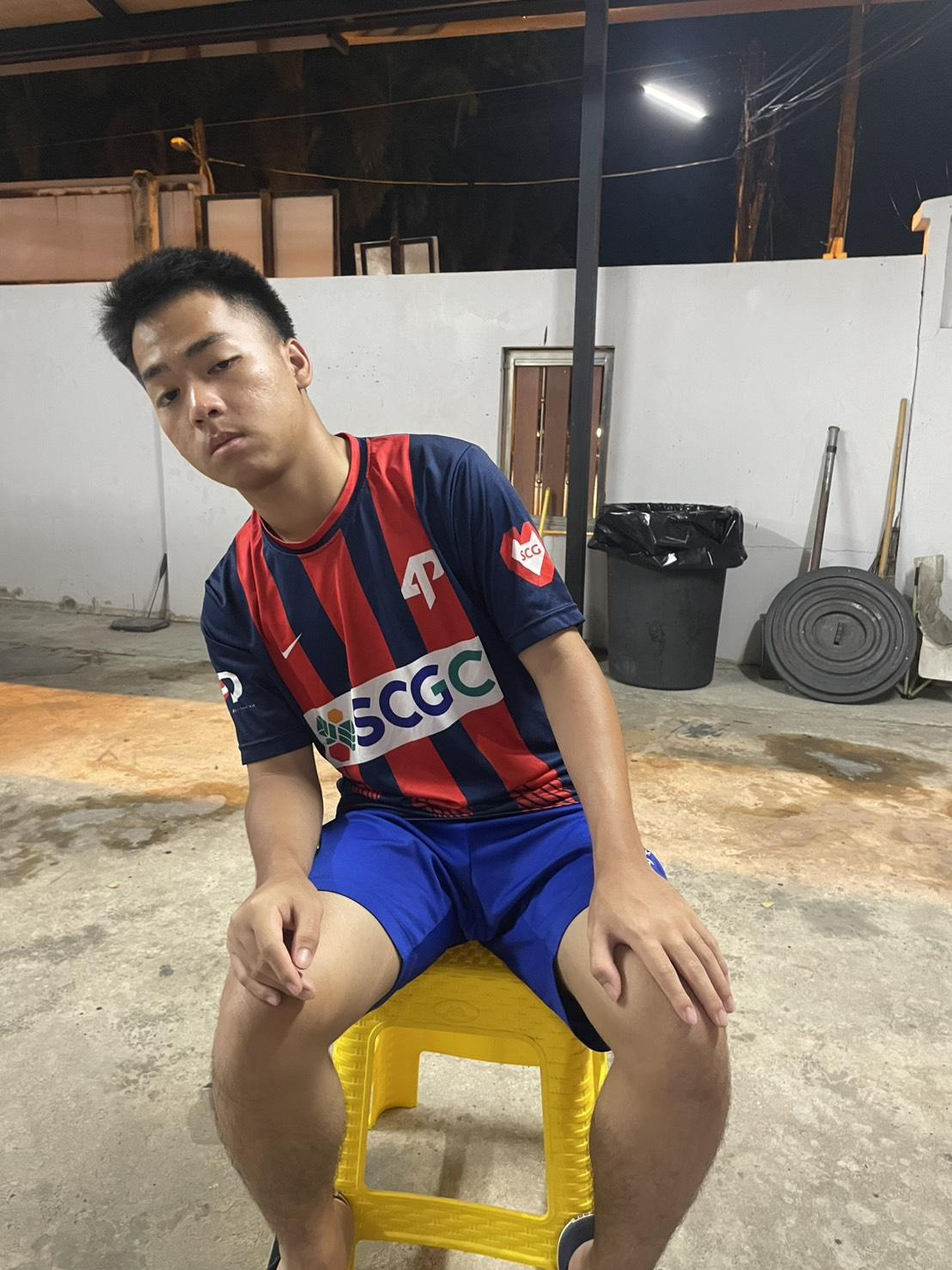BadPosture: (101, 249, 579, 819)
